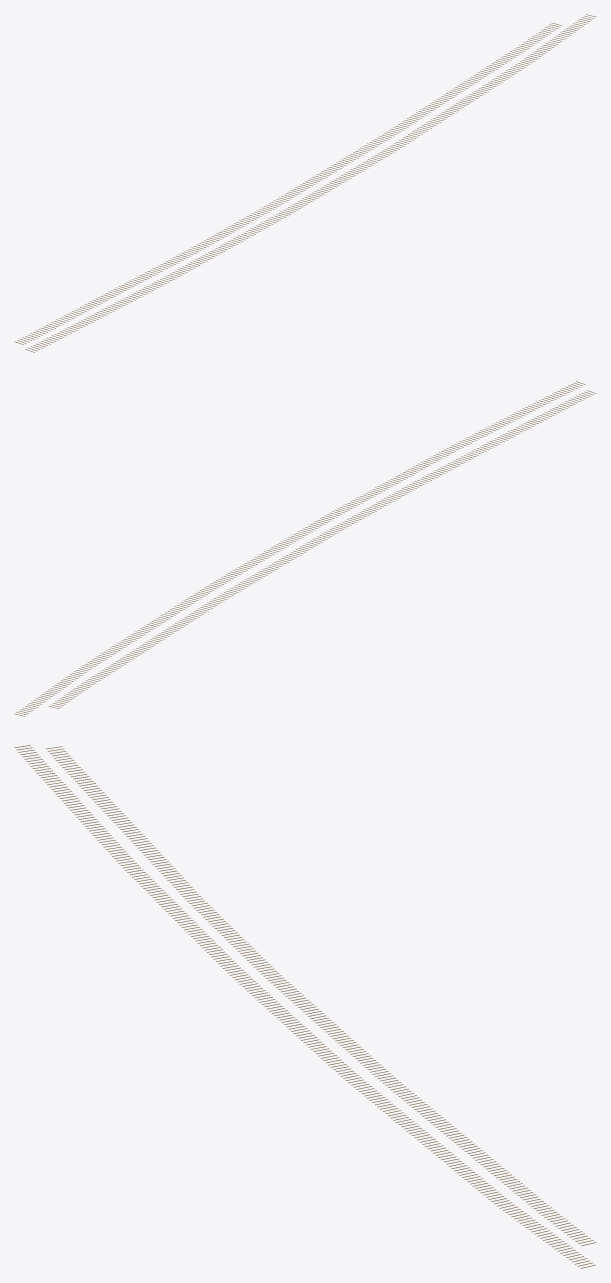
File: c_1627_17835_rail_sleeper.glb
3 renders of one model, top to bottom at view 1: azimuth 30°, elevation 25°; view 2: azimuth 210°, elevation 25°; view 3: azimuth 270°, elevation 25°, orthographic. The views are drawn at different scales.
Visible parts, largest first — view 1: geometry_0; view 2: geometry_0; view 3: geometry_0.
Part boxes in pixels (<box>): geometry_0: <box>14,14,596,352</box>; geometry_0: <box>14,381,596,716</box>; geometry_0: <box>14,745,596,1268</box>.
Size of the model in its own units: 170 by 0.4722 by 79.45.
